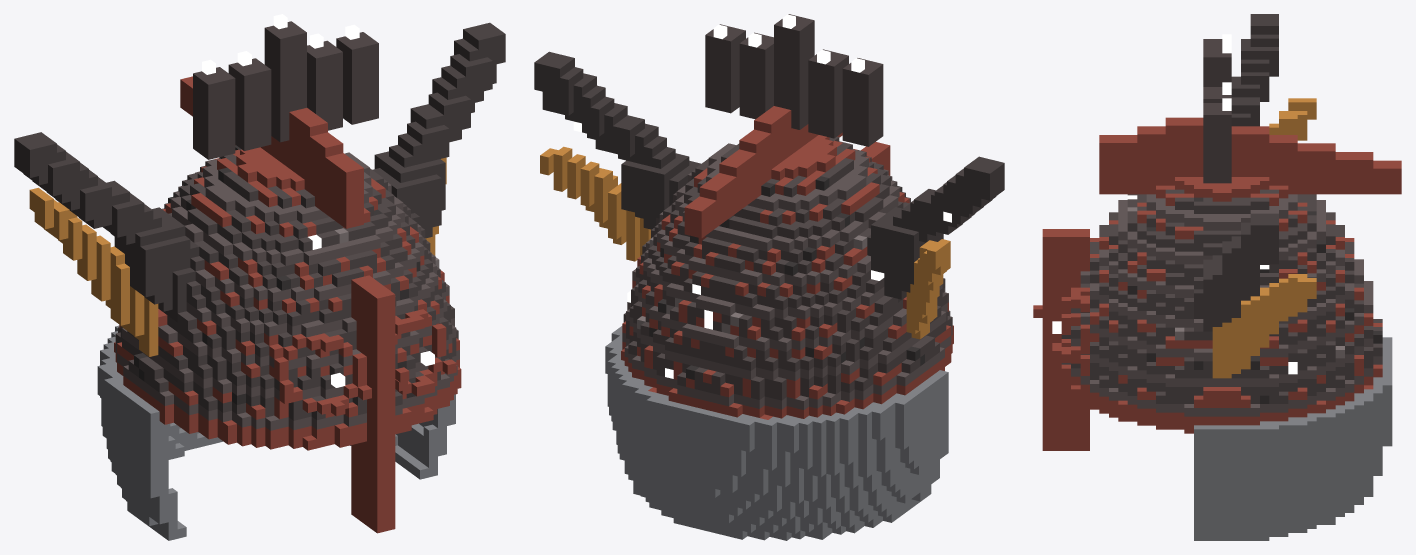
The model's file is scale_masterwork_helmet.glb.
3 renders of one model, left to right at view 1: azimuth 30°, elevation 25°; view 2: azimuth 150°, elevation 25°; view 3: azimuth 270°, elevation 25°, orthographic. The views are drawn at different scales.
Visible parts, largest first — view 1: scale_masterwork_helmet; view 2: scale_masterwork_helmet; view 3: scale_masterwork_helmet.
Part boxes in pixels (<box>): scale_masterwork_helmet: <box>14,14,505,540</box>; scale_masterwork_helmet: <box>534,14,1004,540</box>; scale_masterwork_helmet: <box>1033,14,1401,540</box>.
Bounding box in the file's own units: 0.636 × 0.612 × 0.468.
